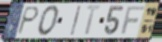5: (104, 5, 125, 36)
F: (120, 5, 146, 36)
I: (69, 5, 82, 37)
O: (36, 4, 61, 37)
P: (15, 6, 40, 36)
T: (83, 4, 104, 37)
